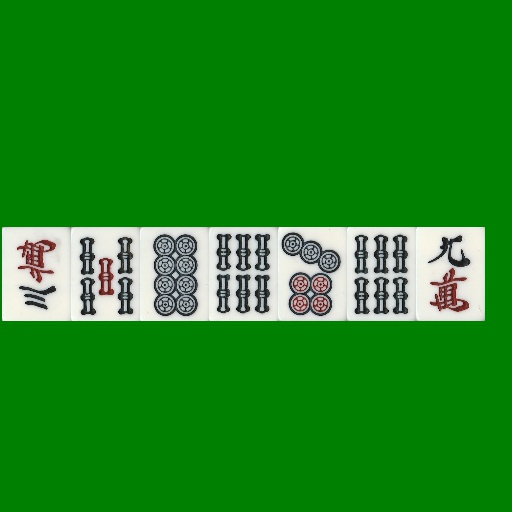3m: (2, 227, 71, 321)
5s: (71, 227, 140, 321)
6s: (209, 227, 278, 321), (347, 227, 416, 321)
7p: (278, 227, 347, 321)
8p: (140, 227, 209, 321)
9m: (416, 227, 485, 321)
